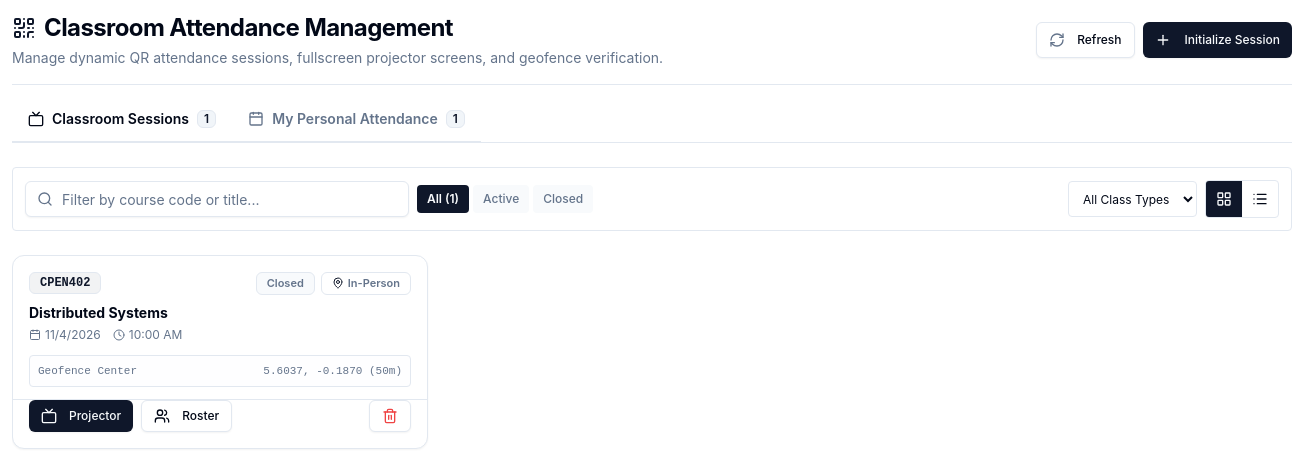
Test: AttendancePage › toggles between Grid and Table views for Course Rep
Expected: the text "CPEN402" is shown, [29,272,101,294]
Switch to Table view
Click the button titled "Table View".
click(1260, 199)  # box [1242,181,1278,217]
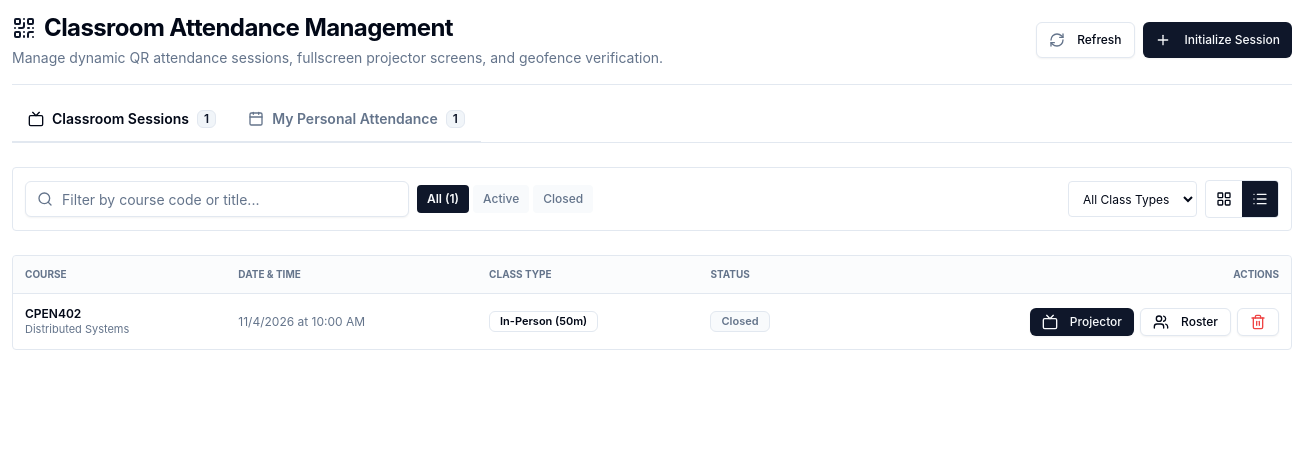
Expected: the column heading "Class Type" is shown, [477,256,698,294]
